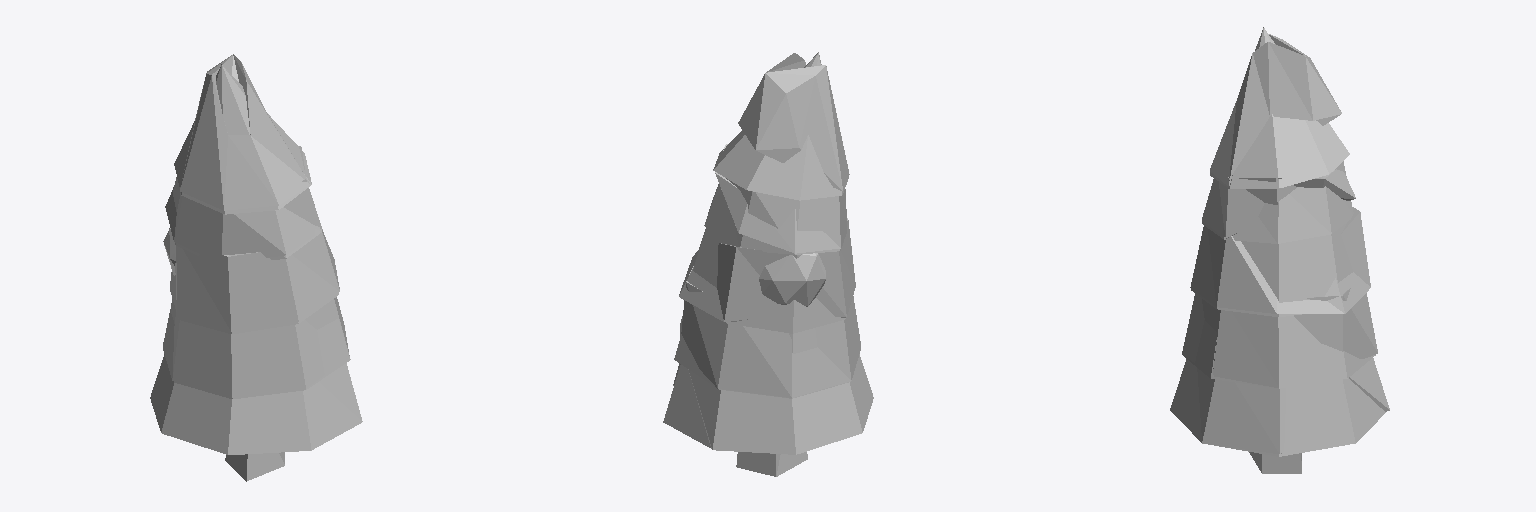
Rendered from tree2.obj.
The picture shows the model from 3 angles: view 1: azimuth 30°, elevation 25°; view 2: azimuth 150°, elevation 25°; view 3: azimuth 270°, elevation 25°; orthographic projection.
Parts seen in each view (by area): view 1: tree_4.002, tree_4.001, tree_4; view 2: tree_4.002, tree_4.001, Icosphere.007, tree_4; view 3: tree_4.002, tree_4.001, tree_4.
Boxes of the visible parts, <box> form: tree_4.002: <box>150,54,362,454</box>; tree_4.001: <box>164,64,360,454</box>; tree_4: <box>225,452,284,481</box>; tree_4.002: <box>673,53,873,454</box>; tree_4.001: <box>663,52,850,447</box>; Icosphere.007: <box>759,253,825,306</box>; tree_4: <box>736,452,807,476</box>; tree_4.002: <box>1170,34,1389,453</box>; tree_4.001: <box>1182,27,1385,456</box>; tree_4: <box>1249,452,1301,473</box>.
Bounding box in the file's own units: 3.29 × 6.89 × 3.31.